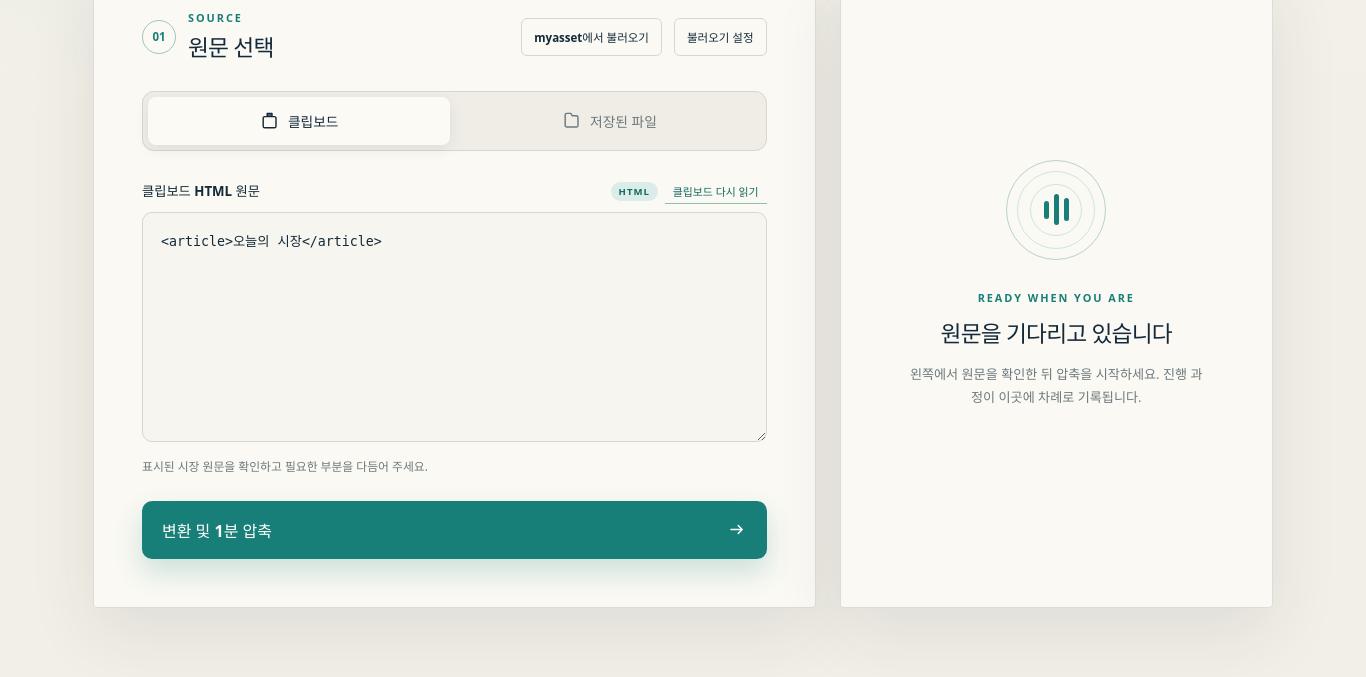
it: App › 변환 및 1분 압축: 409 응답의 작업 ID를 보존하고 이미 진행 중인 작업을 복원한다
(page scrolled)
Step 1. Click the button "변환 및 1분 압축" → (217, 531), box [142,501,766,559]
(page scrolled)
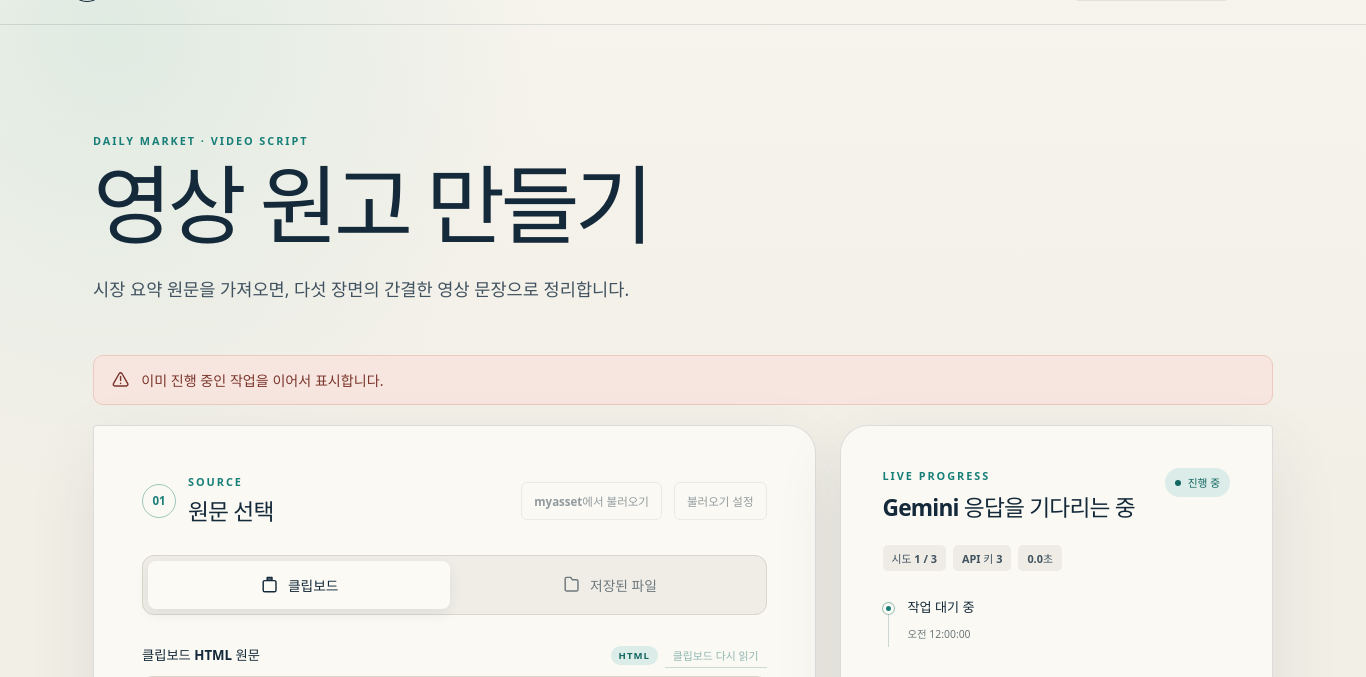
Now the heading "Gemini 응답을 기다리는 중" is shown, box [882,490,1135,523]
Now the message "이미 진행 중인 작업을 이어서 표시합니다." is shown, box [93,355,1273,405]
